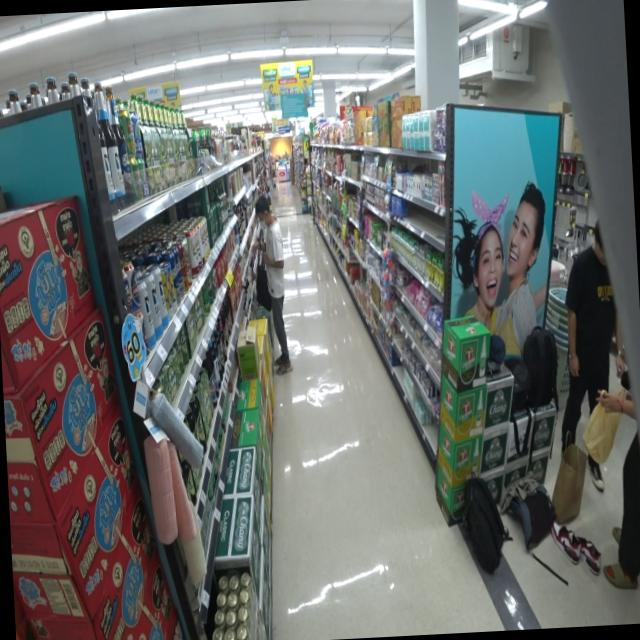shoplifting: (250, 195, 296, 370)
